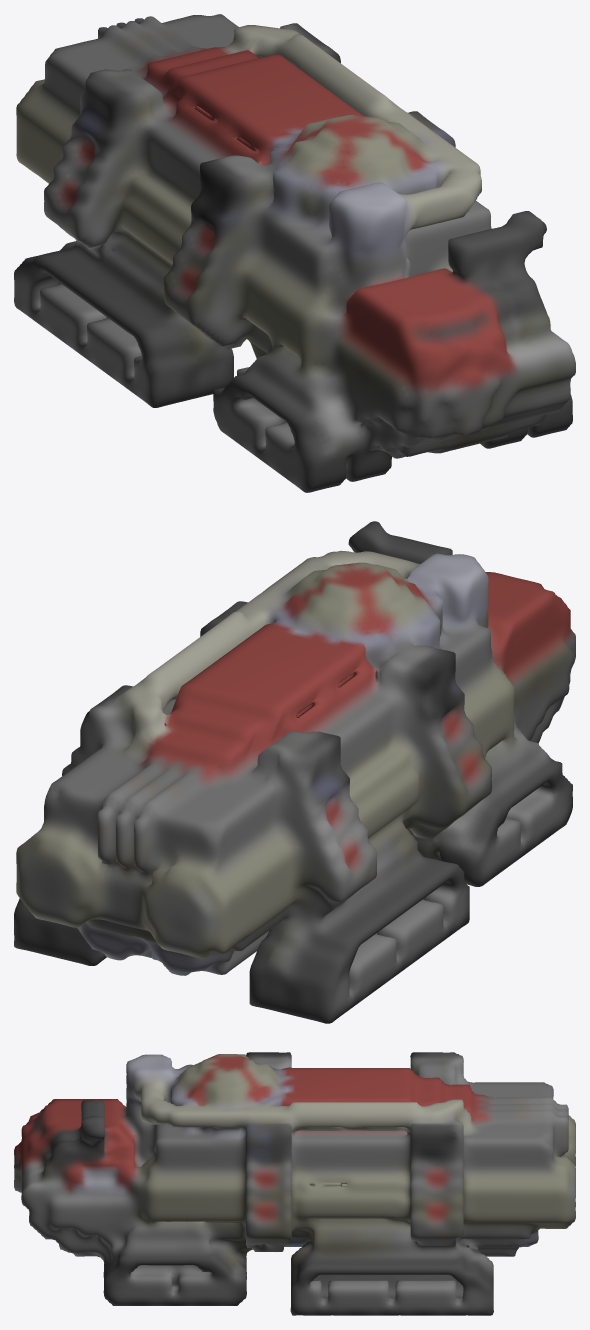
Rendered from smcv.glb.
3 renders of one model, top to bottom at view 1: azimuth 30°, elevation 25°; view 2: azimuth 150°, elevation 25°; view 3: azimuth 270°, elevation 25°, orthographic. The views are drawn at different scales.
Visible parts, largest first — view 1: smcv; view 2: smcv; view 3: smcv.
Boxes of the visible parts, bbox=[...] form: smcv: bbox=[14, 14, 575, 492]; smcv: bbox=[14, 521, 575, 1023]; smcv: bbox=[14, 1052, 575, 1315].
Size of the model in its own units: 2.92 by 2.42 by 6.23.
